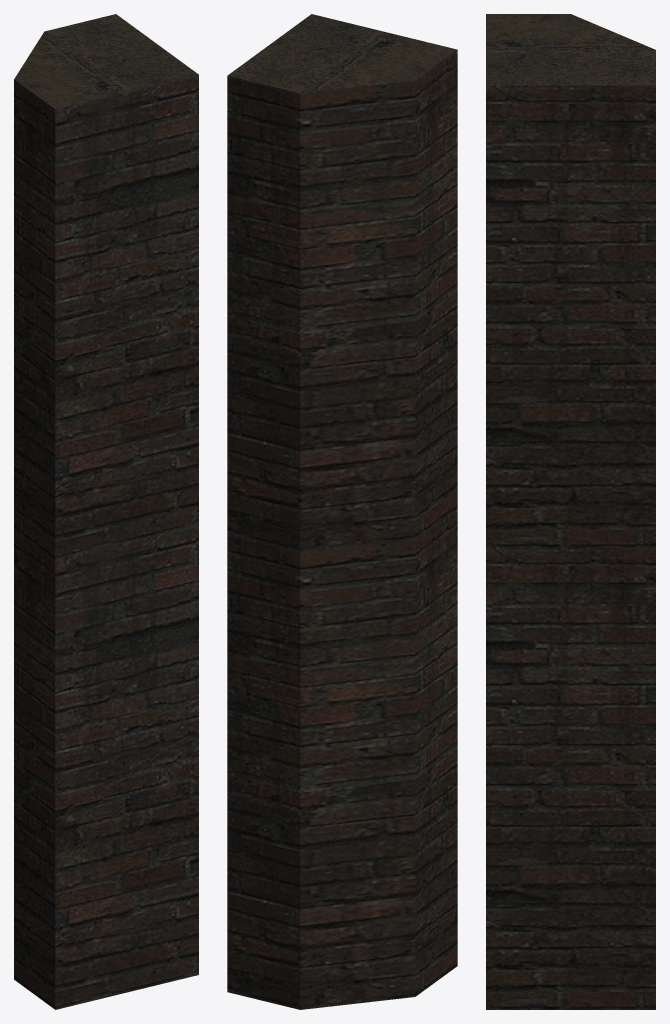
The model's file is pillar_hs_6.dae.
3 renders of one model, left to right at view 1: azimuth 30°, elevation 25°; view 2: azimuth 150°, elevation 25°; view 3: azimuth 270°, elevation 25°, orthographic. The views are drawn at different scales.
Visible parts, largest first — view 1: pillar_hs_6; view 2: pillar_hs_6; view 3: pillar_hs_6.
Boxes of the visible parts, x1,y1,x2,y2 form: pillar_hs_6: (14, 14, 198, 1009); pillar_hs_6: (227, 14, 457, 1009); pillar_hs_6: (486, 14, 655, 1009).
Size of the model in its own units: 1 by 1 by 6.
Materials: 2 (2 with a texture image).
